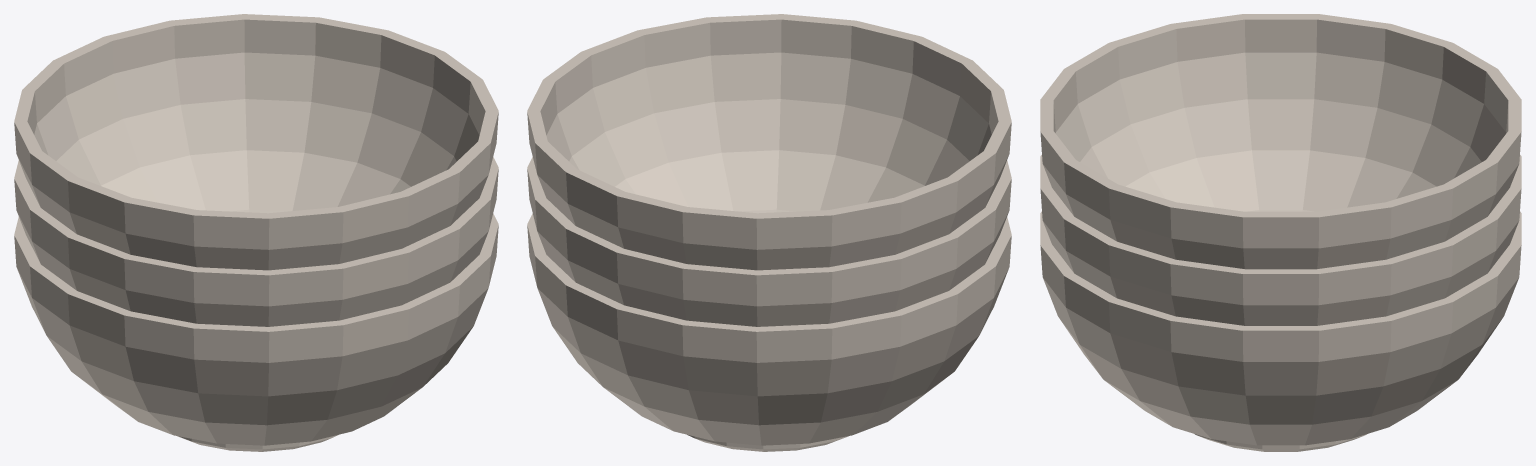
The model's file is SM_Cook_BowlStack_01.glb.
The picture shows the model from 3 angles, left to right: view 1: azimuth 30°, elevation 25°; view 2: azimuth 150°, elevation 25°; view 3: azimuth 270°, elevation 25°; orthographic projection.
Parts seen in each view (by area): view 1: SM_Cook_BowlStack_01; view 2: SM_Cook_BowlStack_01; view 3: SM_Cook_BowlStack_01.
Part boxes in pixels (bbox=[...]): SM_Cook_BowlStack_01: bbox=[14, 14, 498, 451]; SM_Cook_BowlStack_01: bbox=[527, 14, 1011, 451]; SM_Cook_BowlStack_01: bbox=[1040, 14, 1521, 451].
Bounding box in the file's own units: 0.2173 × 0.146 × 0.2173.
1 material, 1 textured.
